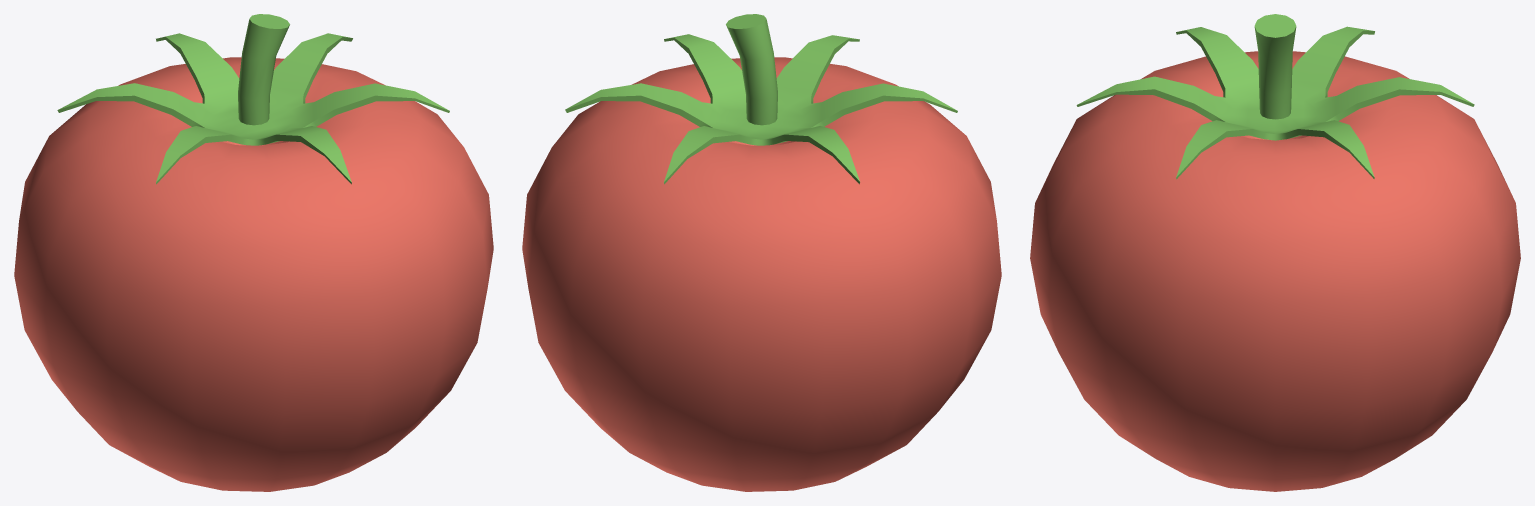
Rendered from tomato.fbx.
3 views of the same model, side by side, from view 1: azimuth 30°, elevation 25°; view 2: azimuth 150°, elevation 25°; view 3: azimuth 270°, elevation 25° (orthographic).
Parts seen in each view (by area): view 1: tomato; view 2: tomato; view 3: tomato.
Part boxes in pixels (x1,y1,x2,y2): tomato: [14, 14, 493, 491]; tomato: [522, 14, 1001, 491]; tomato: [1030, 14, 1520, 491].
Size of the model in its own units: 7.62 by 7.61 by 7.62.
